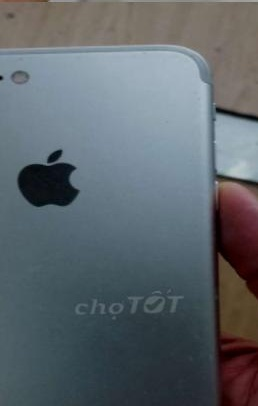scratch: (173, 323, 220, 385), (118, 44, 190, 70), (191, 96, 228, 118), (123, 382, 152, 405), (0, 50, 37, 66)
